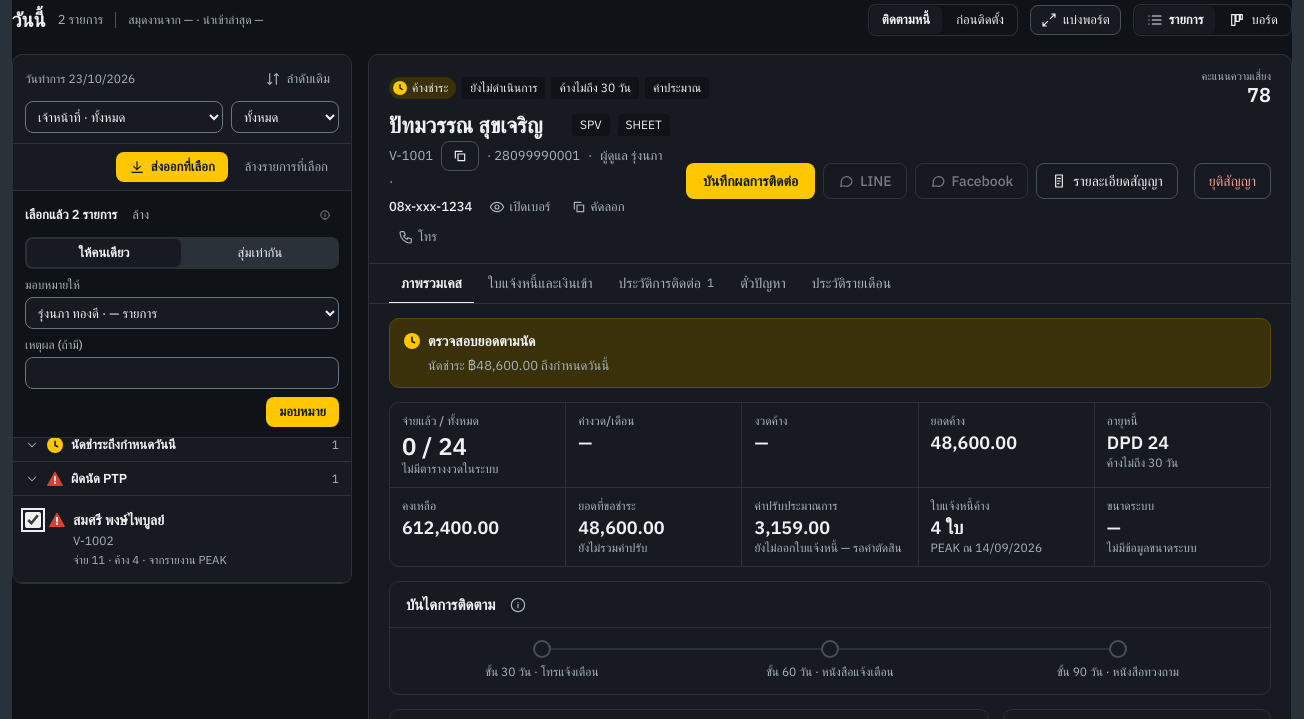
Today bulk assignment (F10) › deals the ticked rows equally at random for a manager, previewing before the write
Earlier steps of the test are not shown.
Later steps or results of the test are not shown.
(page scrolled)
Click the radio button labelled "สุ่มเท่ากัน". click: (260,253)
box: [183, 239, 337, 267]
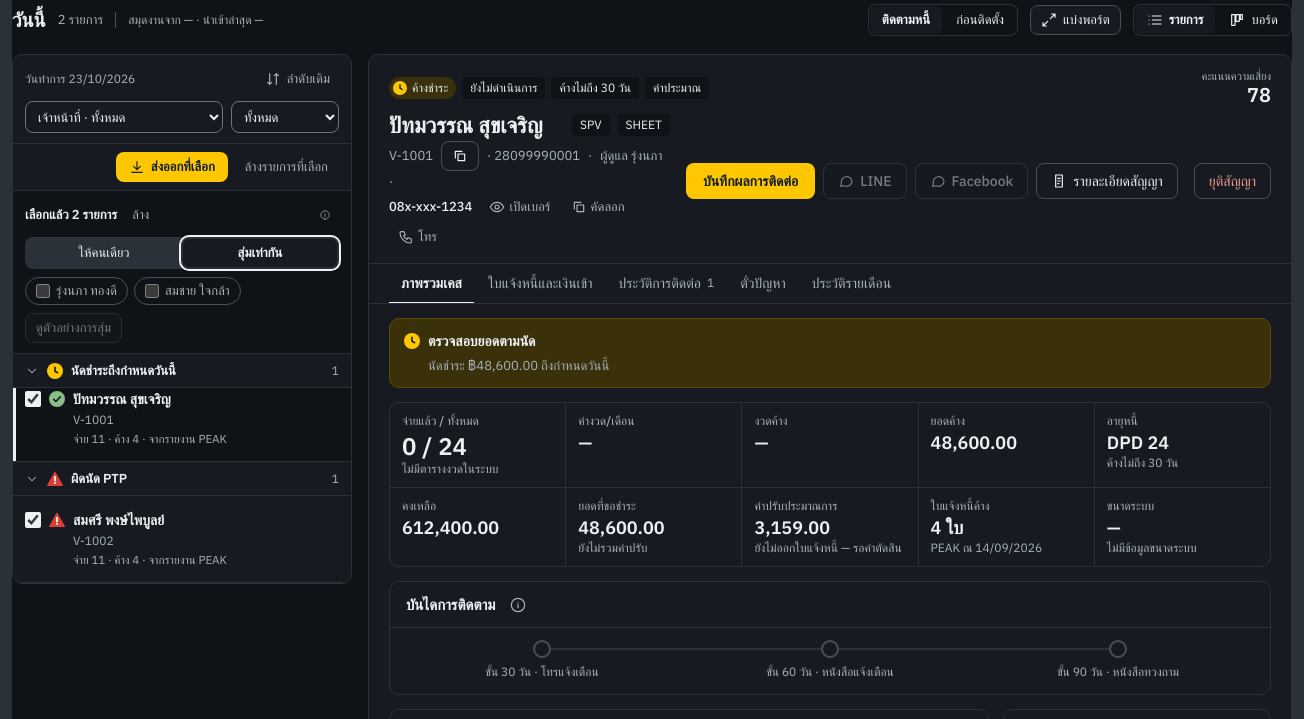
Click the checkbox labelled "รุ่งนภา ทองดี". click: (43,291)
box: [36, 284, 50, 298]
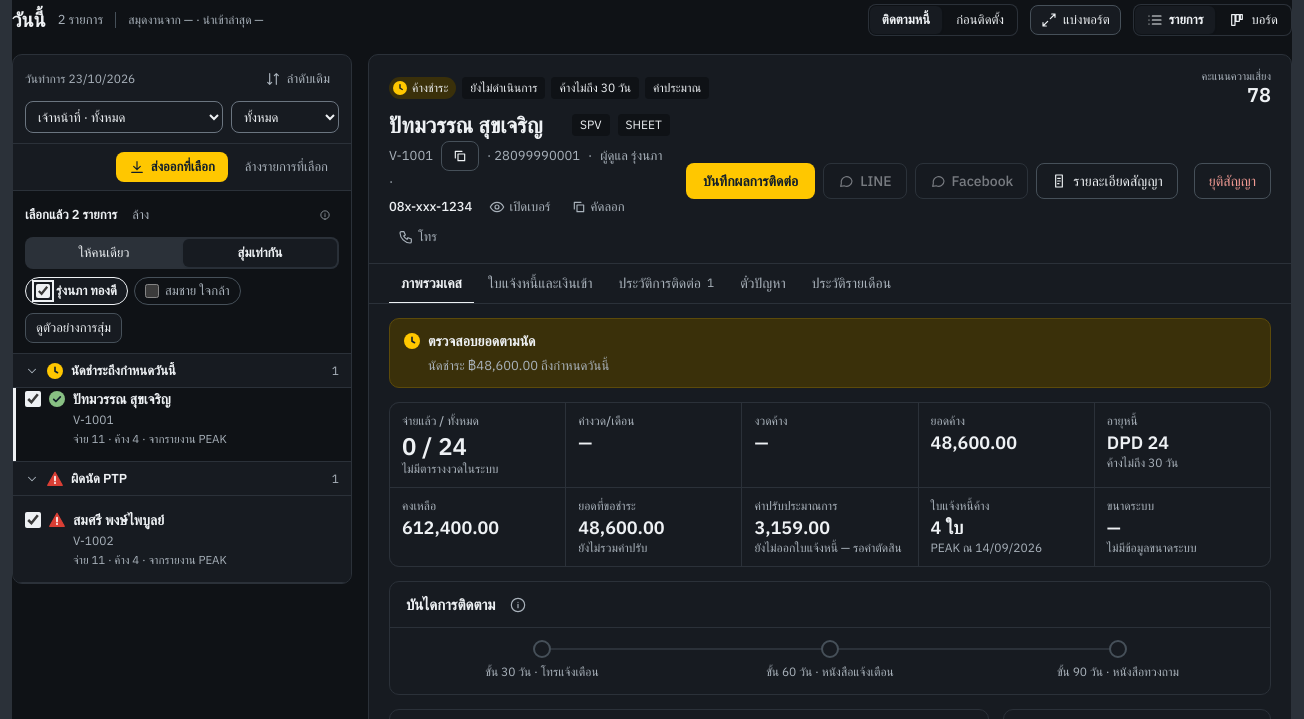
Click the checkbox labelled "สมชาย ใจกล้า". click: (152,291)
box: [145, 284, 159, 298]
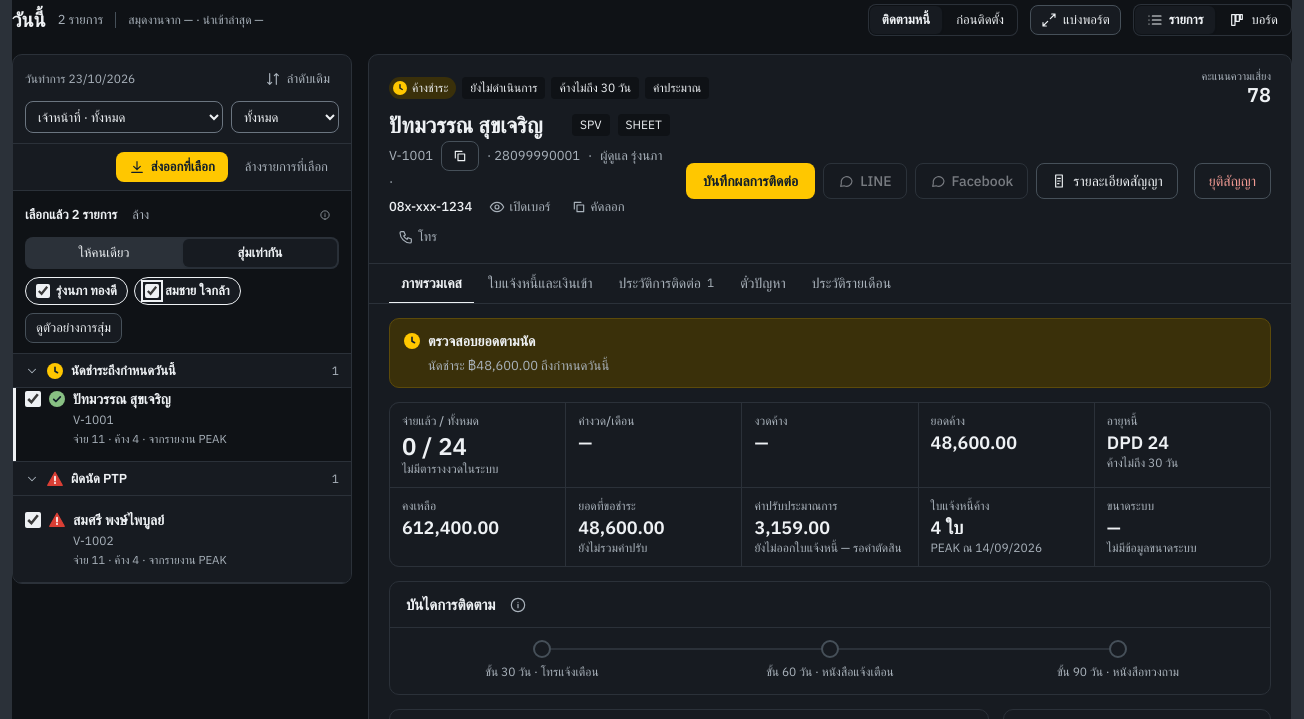
Click the button "ดูตัวอย่างการสุ่ม". click: (74,328)
box: [25, 313, 122, 343]
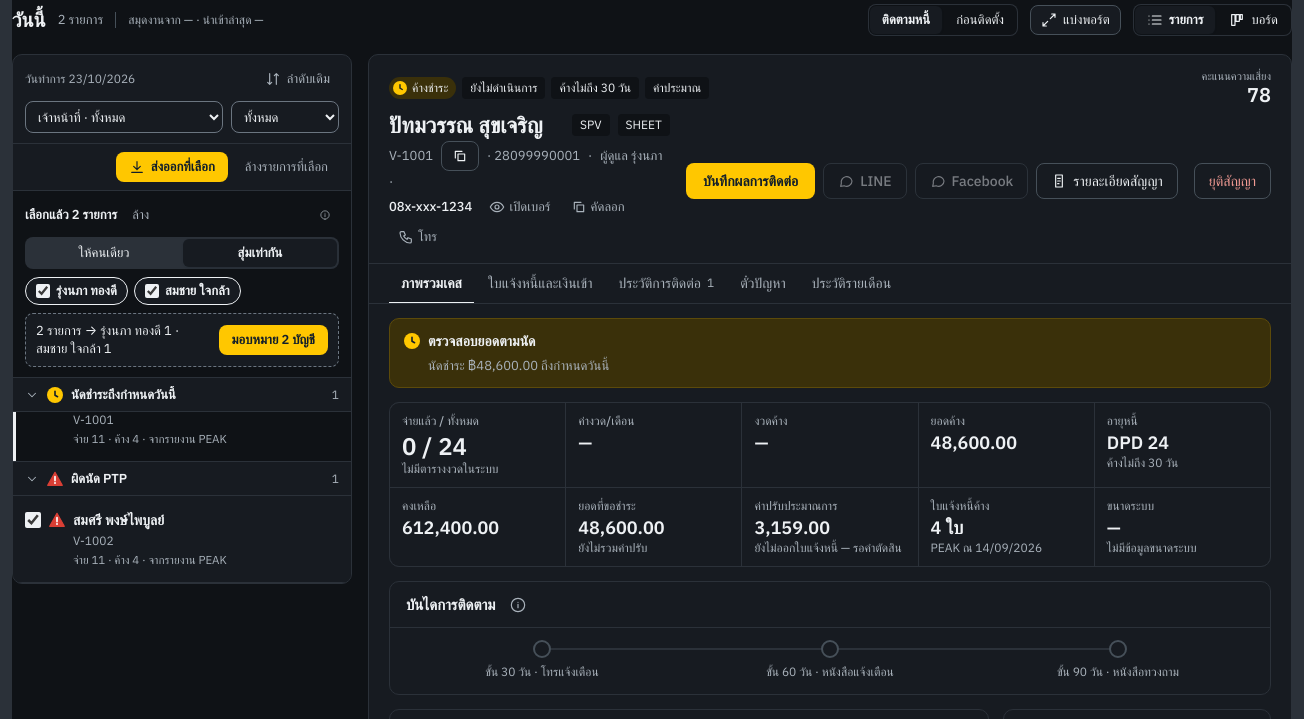
Now the text "2 รายการ → รุ่งนภา ทองดี 1 · สมชาย ใจกล้า 1" is shown, box [36, 322, 179, 357]
